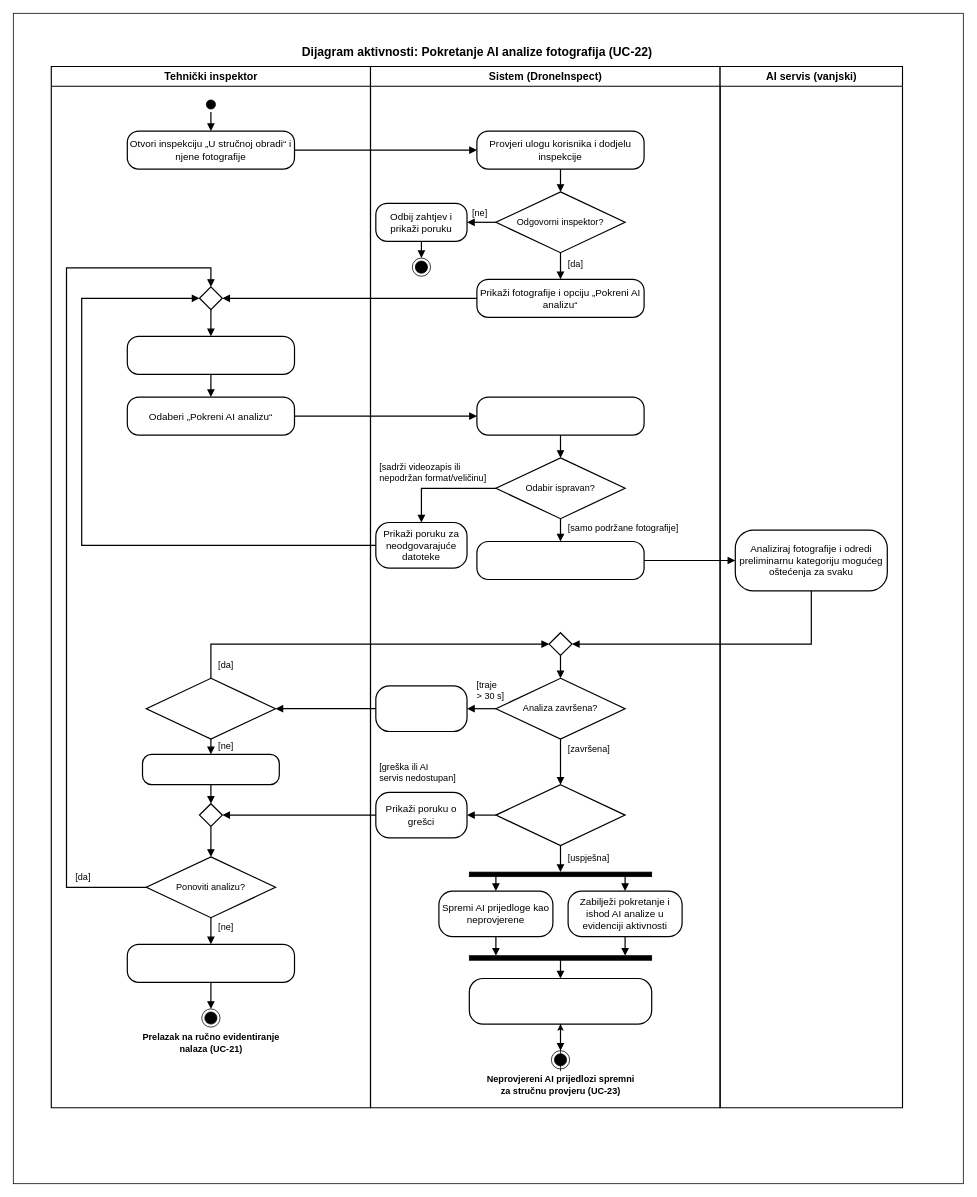
This 977x1197 diagram has some shape labels left out. The centre of each missing label's shape, as x and y in pixels:
"Analiza uspješna?" goes at point (560, 815).
"Nastavi bez AI analize – ručni pregled fotografija" goes at point (210, 963).
"Nastaviti čekanje?" goes at point (210, 708).
"Odaberi jednu ili više fotografija" goes at point (210, 355).
"Otkaži analizu" goes at point (211, 769).
"Pošalji fotografije AI servisu i prikaži da analiza traje" goes at point (560, 560).
"Prikaži obavještenje o dužem trajanju analize" goes at point (421, 708).
"Prikaži prijedloge uz fotografije, označene kao „Preliminarni AI prijedlog“" goes at point (560, 1001).
"Provjeri tip, format i veličinu odabranih datoteka" goes at point (560, 415).
